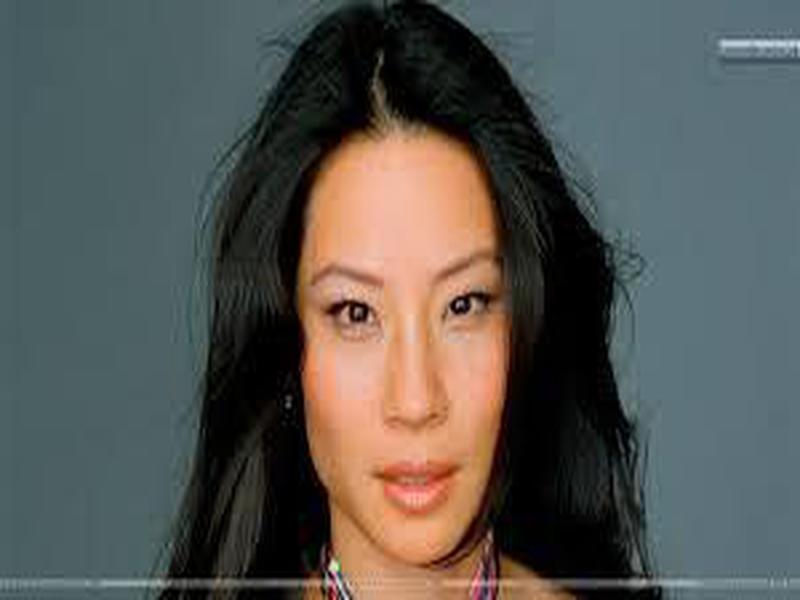without_mask: (302, 140, 502, 565)
